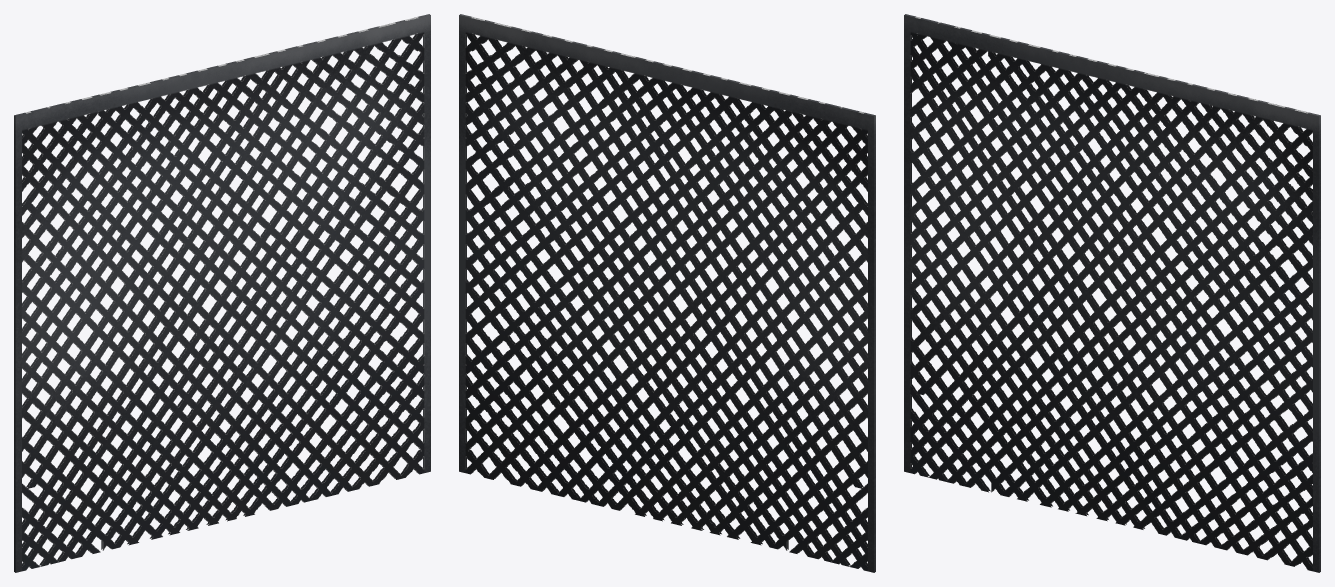
Rendered from Fence.fbx.
The picture shows the model from 3 angles, left to right: view 1: azimuth 30°, elevation 25°; view 2: azimuth 150°, elevation 25°; view 3: azimuth 330°, elevation 25°; orthographic projection.
Parts seen in each view (by area): view 1: Plane.007; view 2: Plane.007; view 3: Plane.007.
Part boxes in pixels (x1,y1,x2,y2): Plane.007: [14, 14, 430, 572]; Plane.007: [459, 14, 875, 572]; Plane.007: [904, 14, 1320, 572].
Bounding box in the file's own units: 1037 × 1090 × 6.51.
